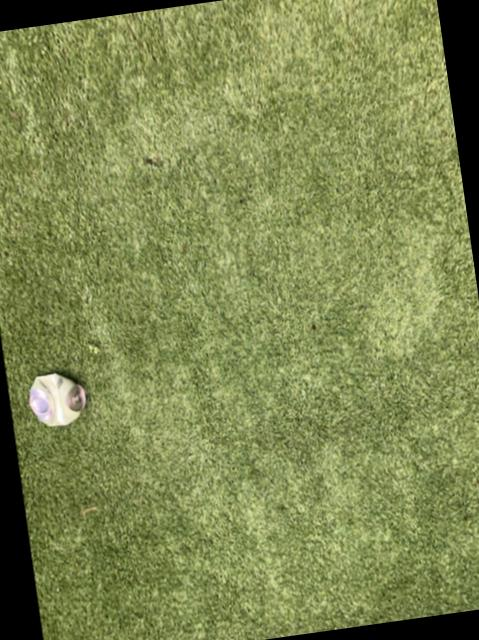metal: (29, 374, 86, 427)
